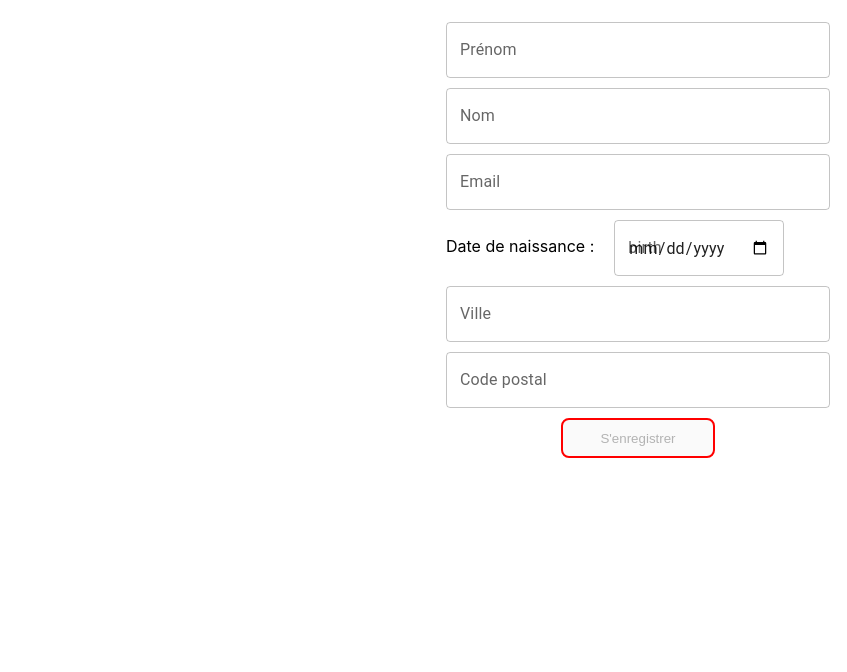
Test: check snackbar display with success message when valid form is submitted
Type "Tom" into the field labelled "Prénom".
click(638, 50); type("Tom")  # box [446,22,830,78]
Type "Wittke" into the field labelled "Nom".
click(638, 116); type("Wittke")  # box [446,88,830,144]
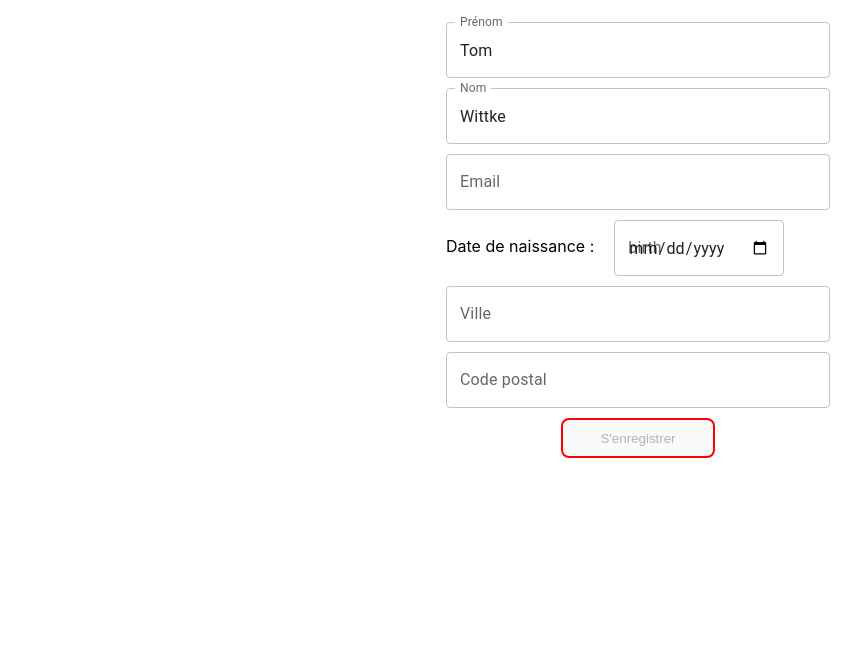
Type "wtom@live.fr" into the field labelled "Email".
click(638, 182); type("wtom@live.fr")  # box [446,154,830,210]
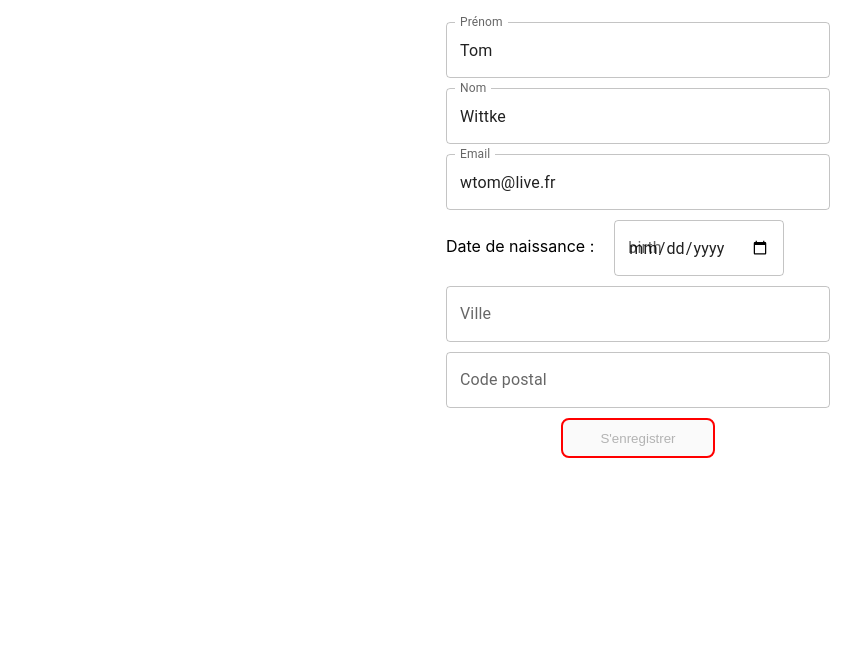
Type "Saint-Laurent-du-Var" into the field labelled "Ville".
click(638, 314); type("Saint-Laurent-du-Var")  # box [446,286,830,342]
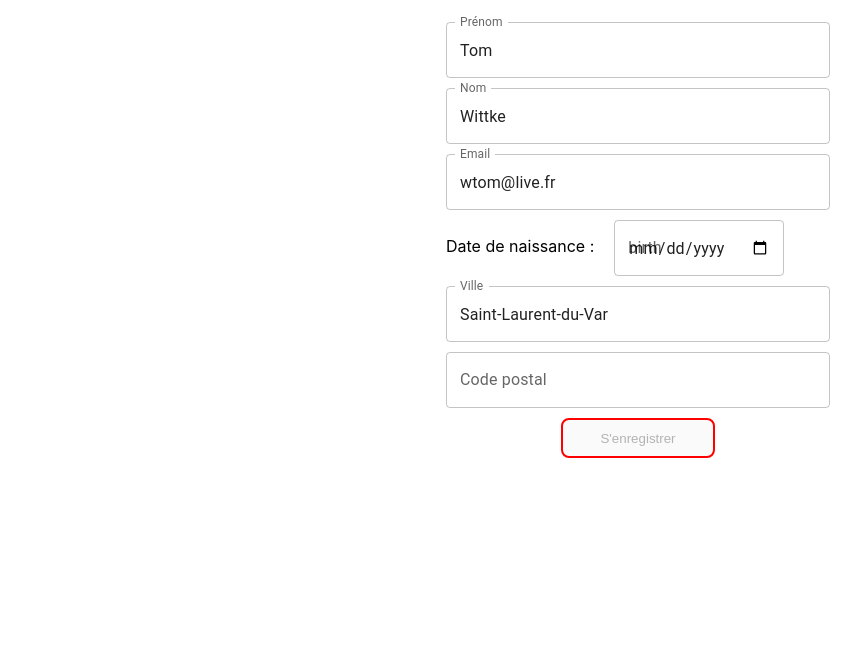
Type "06700" into the field labelled "Code postal".
click(638, 380); type("06700")  # box [446,352,830,408]
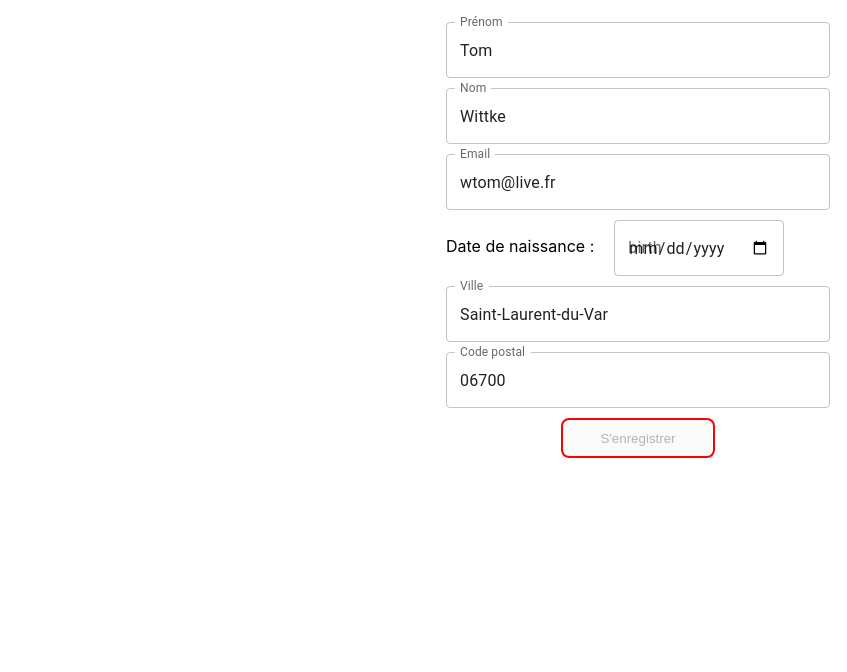
Type "2000-03-22" into the date field labelled "birth".
click(699, 248); type("2000-03-22")  # box [614,220,784,276]
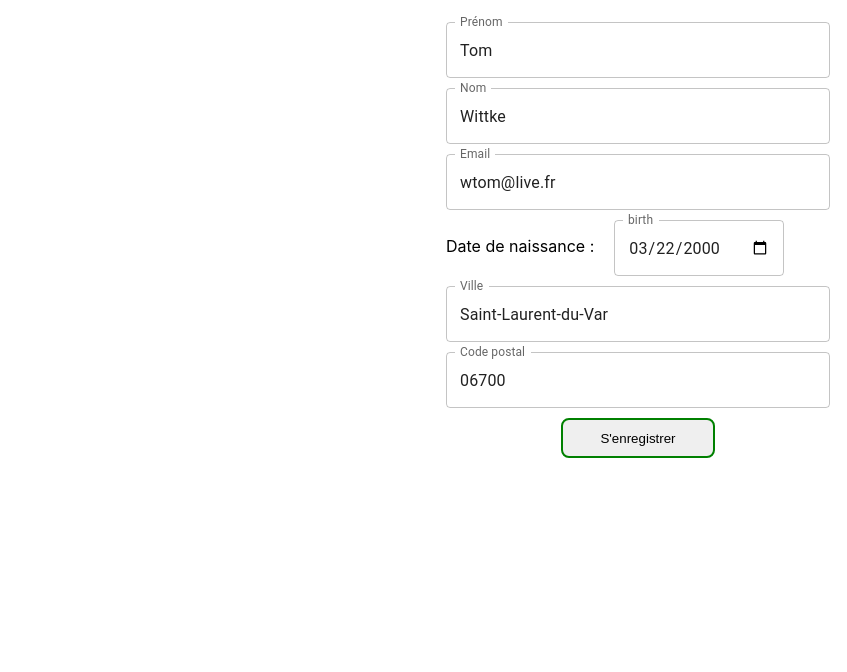
Click the button with test id "register".
click(638, 438)  # box [561,418,715,458]
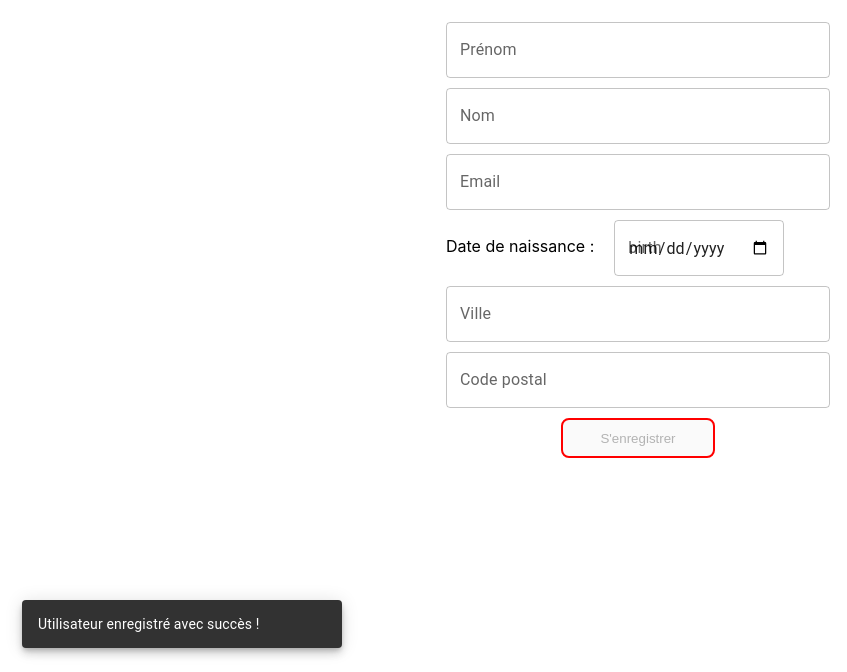
Expected: the element with test id "snackbar" is shown, [22,600,342,648]
Expected: the element with test id "snackbar" reads "Utilisateur enregistré avec succès !", [38,616,260,632]
